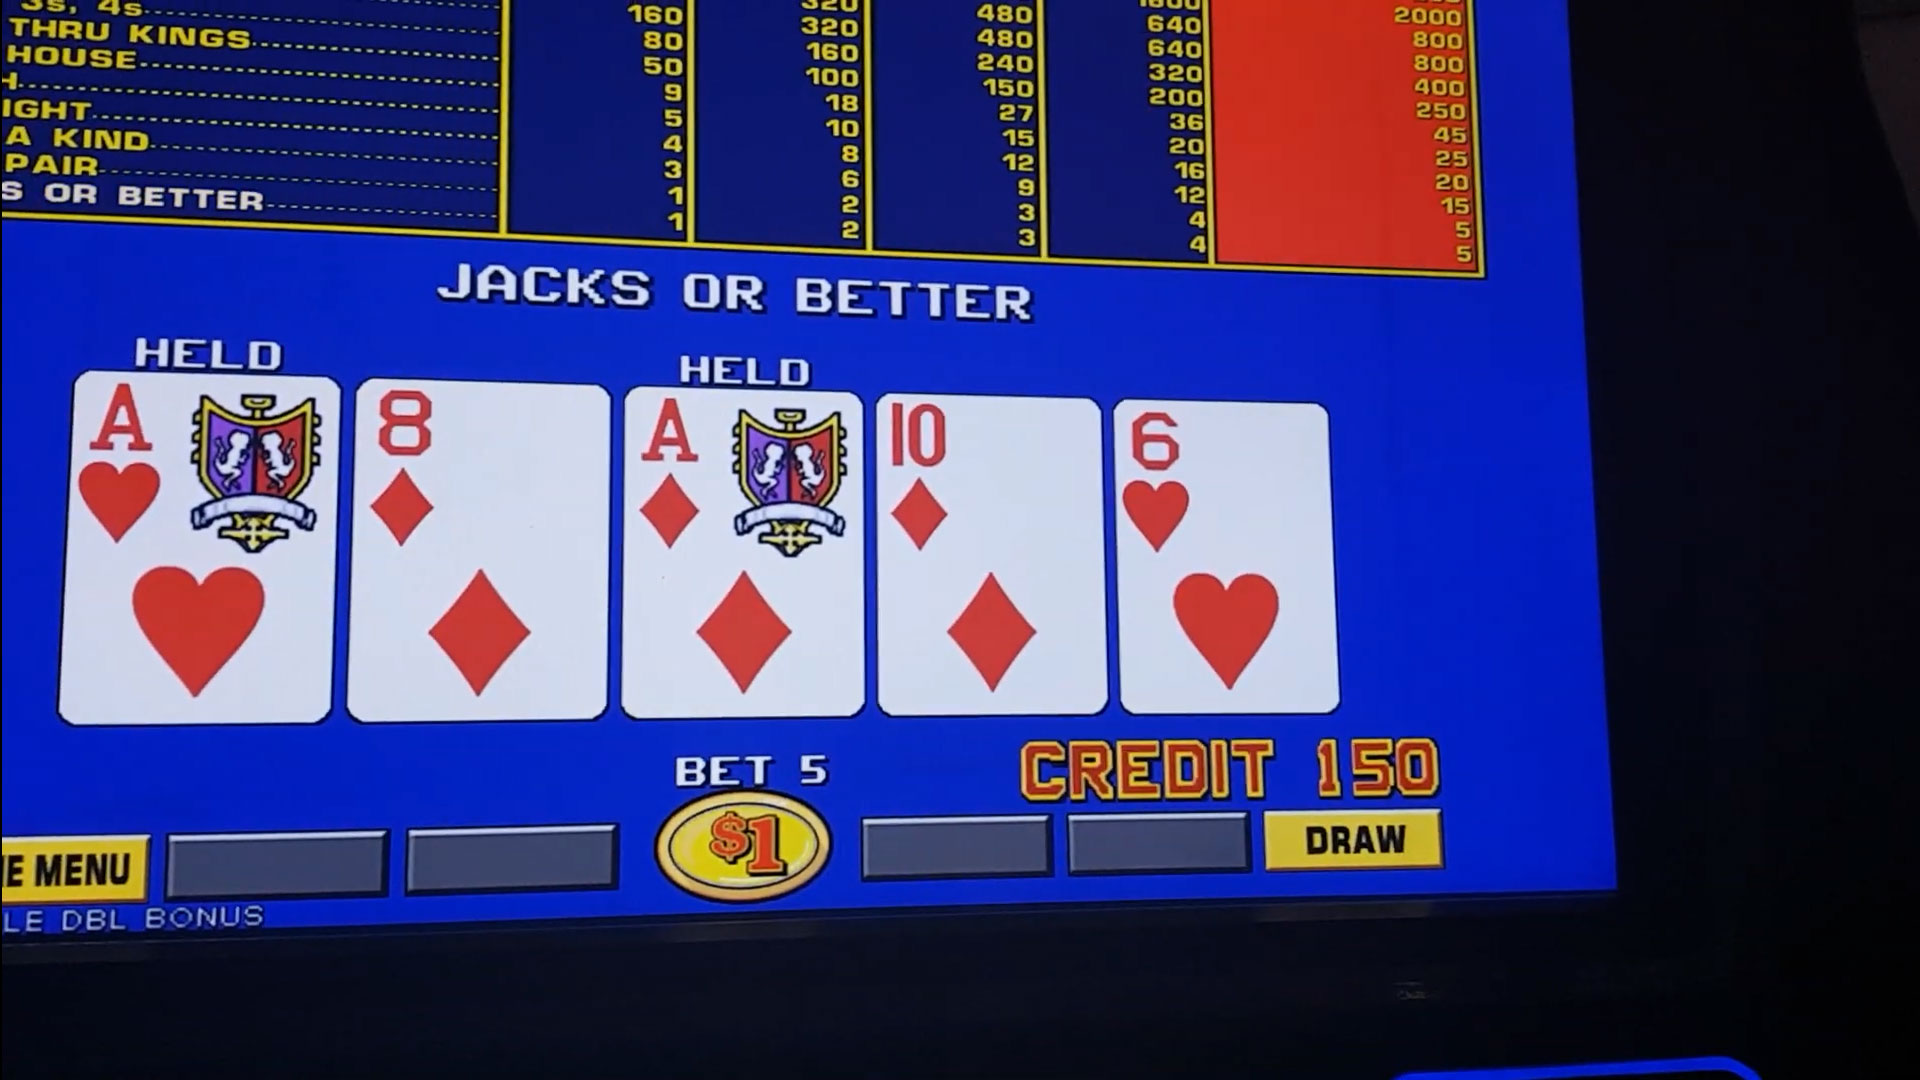D8: (359, 388, 607, 559)
DA: (625, 390, 868, 568)
DT: (882, 404, 1100, 570)
H6: (1124, 400, 1327, 566)
HA: (82, 376, 336, 553)
